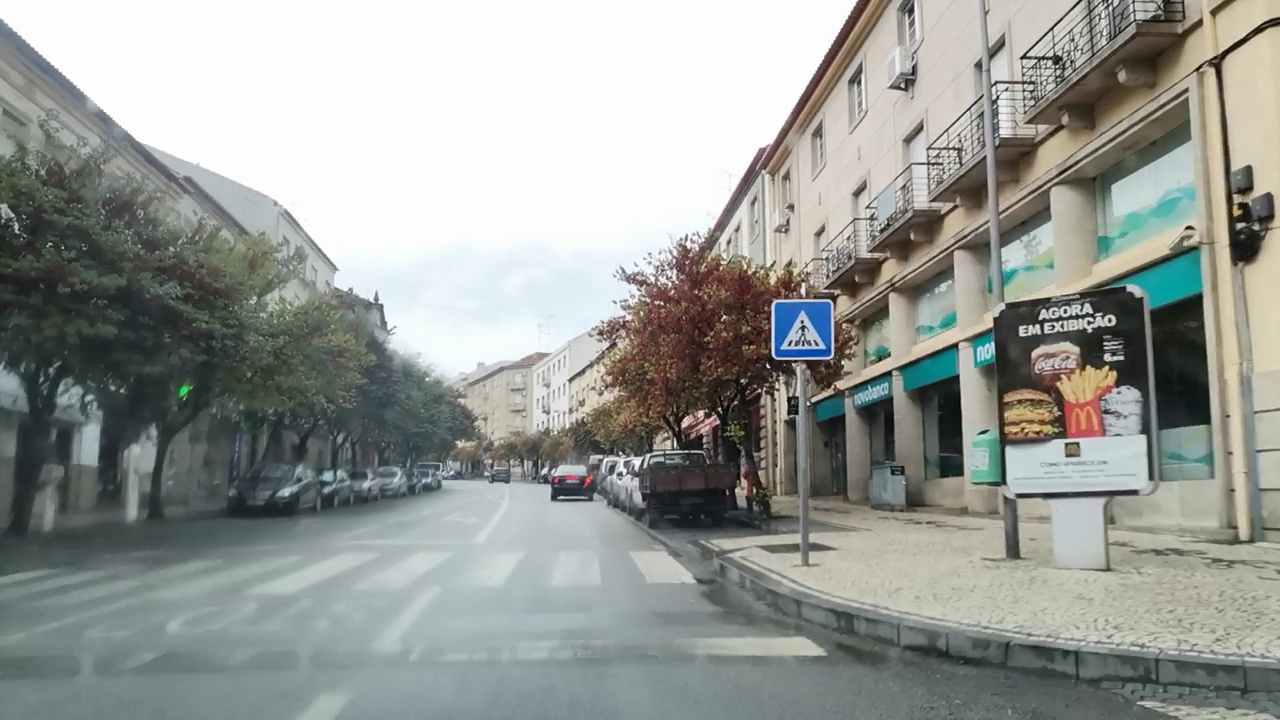Stairs: (0, 542, 701, 606)
